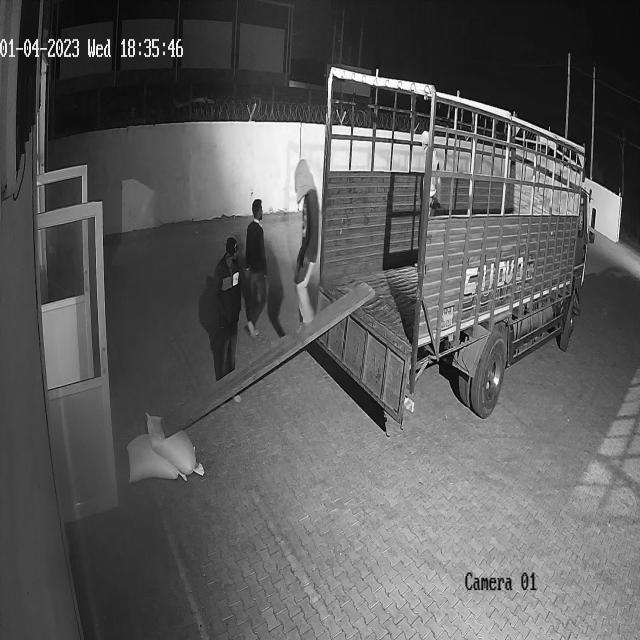sack: (145, 412, 206, 475), (127, 432, 185, 480)
